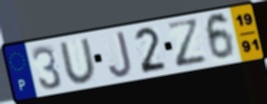2: (133, 25, 170, 76)
3: (31, 44, 63, 92)
6: (203, 11, 237, 64)
J: (107, 29, 134, 80)
U: (57, 36, 99, 85)
Z: (164, 17, 210, 70)
